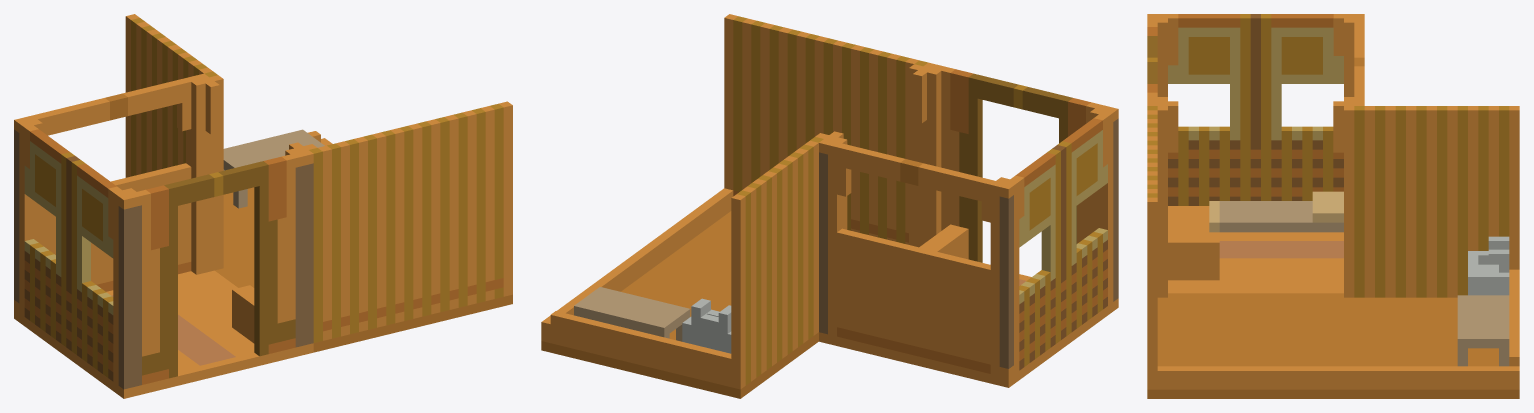
File: hut01.FBX
The picture shows the model from 3 angles, left to right: view 1: azimuth 30°, elevation 25°; view 2: azimuth 150°, elevation 25°; view 3: azimuth 270°, elevation 25°; orthographic projection.
Visible parts, largest first — view 1: default; view 2: default; view 3: default.
Boxes of the visible parts, x1,y1,x2,y2 form: default: [14, 14, 512, 398]; default: [541, 14, 1118, 398]; default: [1147, 14, 1519, 398].
Size of the model in its own units: 43 by 21 by 36.
Materials: 1 (1 with a texture image).
